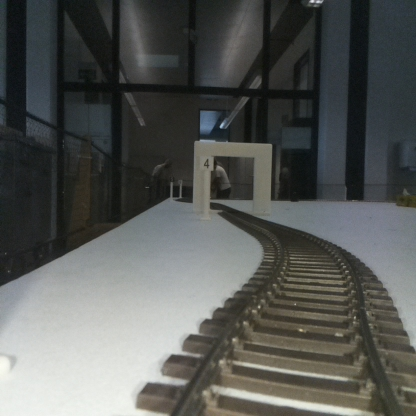white-info-4: (200, 155, 213, 218)
